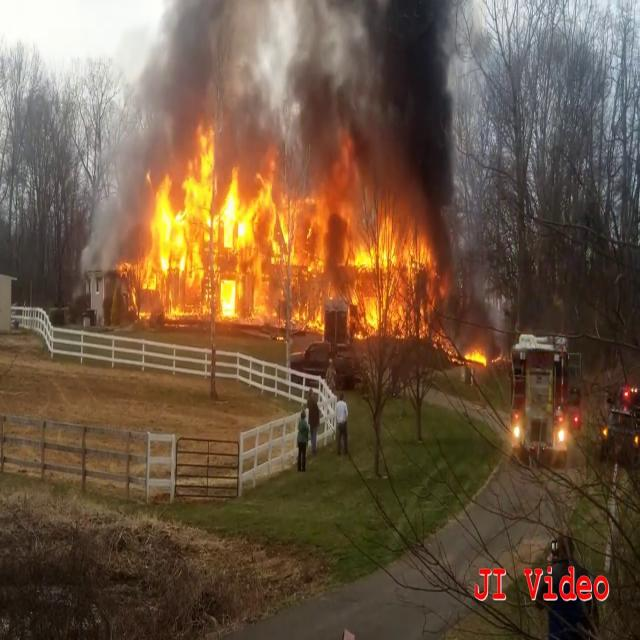Fire: (120, 127, 437, 337), (454, 340, 492, 369)
Smoke: (294, 0, 476, 192), (109, 0, 292, 169)
